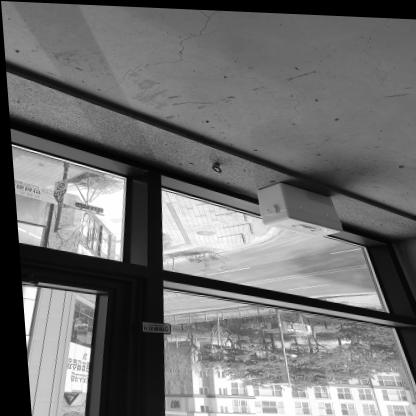DDL: (251, 178, 340, 236)
